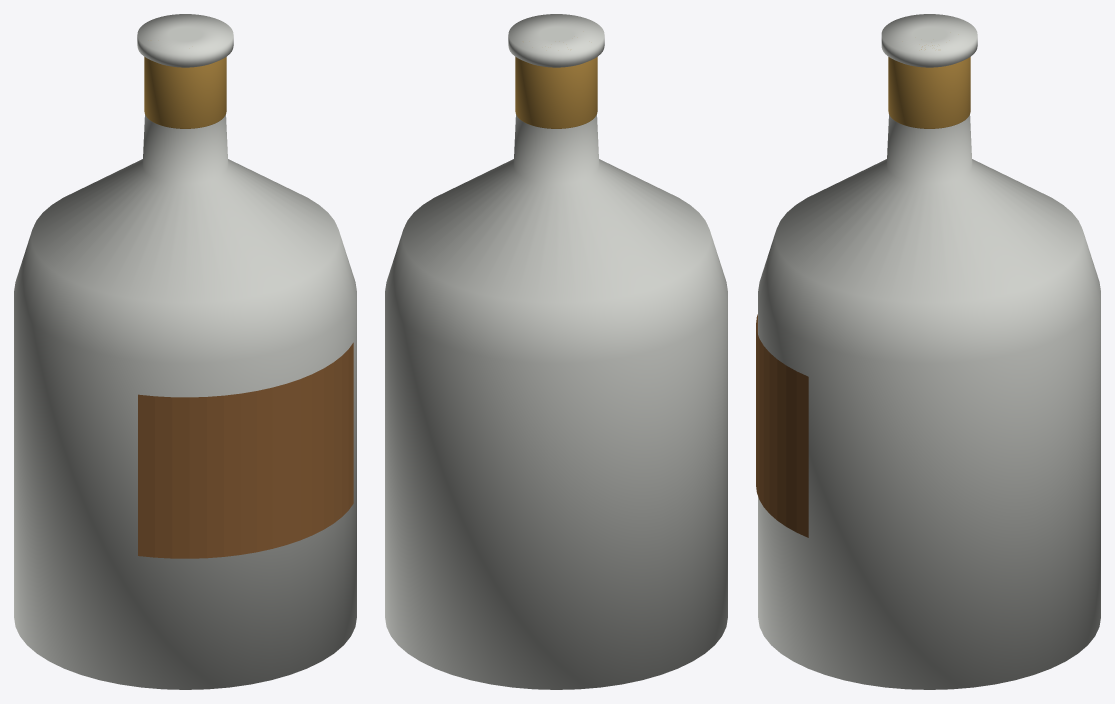
The picture shows the model from 3 angles, left to right: view 1: azimuth 30°, elevation 25°; view 2: azimuth 150°, elevation 25°; view 3: azimuth 270°, elevation 25°; orthographic projection.
Parts seen in each view (by area): view 1: TI045 / bottle body, TI045 / curved bottle label, TI045 / bottle neck foil; view 2: TI045 / bottle body, TI045 / bottle neck foil; view 3: TI045 / bottle body, TI045 / curved bottle label, TI045 / bottle neck foil.
Boxes of the visible parts, x1,y1,x2,y2 form: TI045 / bottle body: [14, 14, 356, 689]; TI045 / curved bottle label: [138, 342, 353, 558]; TI045 / bottle neck foil: [144, 57, 226, 128]; TI045 / bottle body: [385, 14, 727, 689]; TI045 / bottle neck foil: [515, 57, 597, 128]; TI045 / bottle body: [758, 14, 1100, 689]; TI045 / curved bottle label: [756, 314, 808, 537]; TI045 / bottle neck foil: [888, 45, 970, 128].
Bounding box in the file's own units: 1.3 × 2.5 × 1.31.
